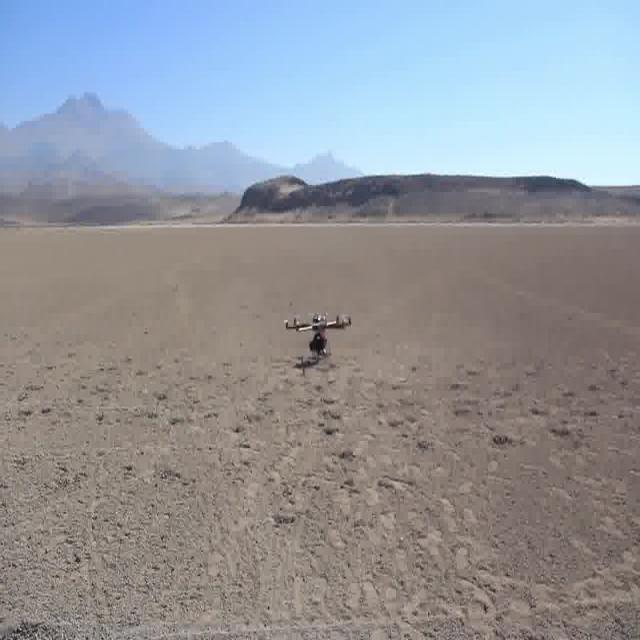drone: (283, 304, 354, 371)
